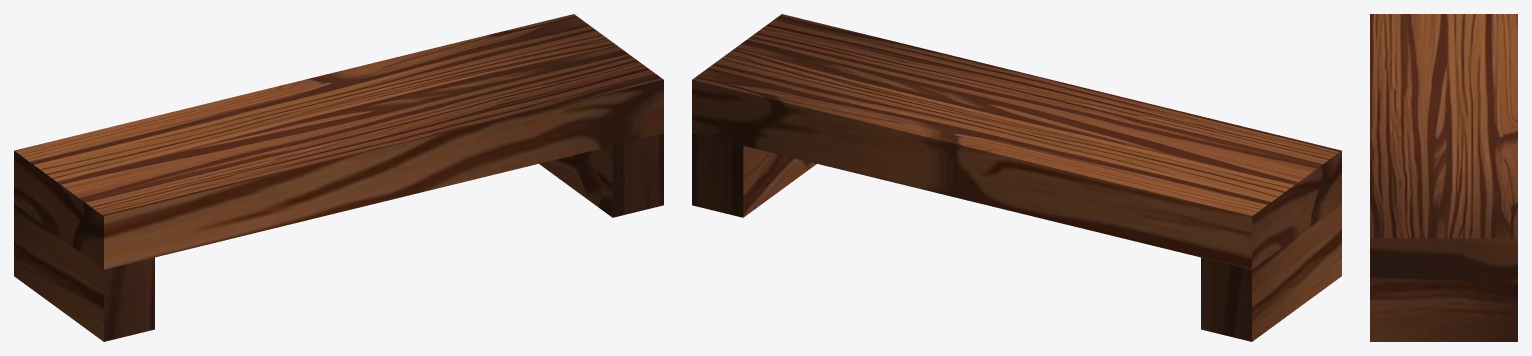
The model's file is cont8.obj.
3 views of the same model, side by side, from view 1: azimuth 30°, elevation 25°; view 2: azimuth 150°, elevation 25°; view 3: azimuth 270°, elevation 25° (orthographic). The views are drawn at different scales.
Visible parts, largest first — view 1: Cube.040; view 2: Cube.040; view 3: Cube.040.
Boxes of the visible parts, left/top/right/bottom form: Cube.040: left=14, top=14, right=663, bottom=341; Cube.040: left=692, top=14, right=1341, bottom=341; Cube.040: left=1370, top=14, right=1517, bottom=341.
Size of the model in its own units: 3.6 by 0.7718 by 1.
Materials: 1 (1 with a texture image).
